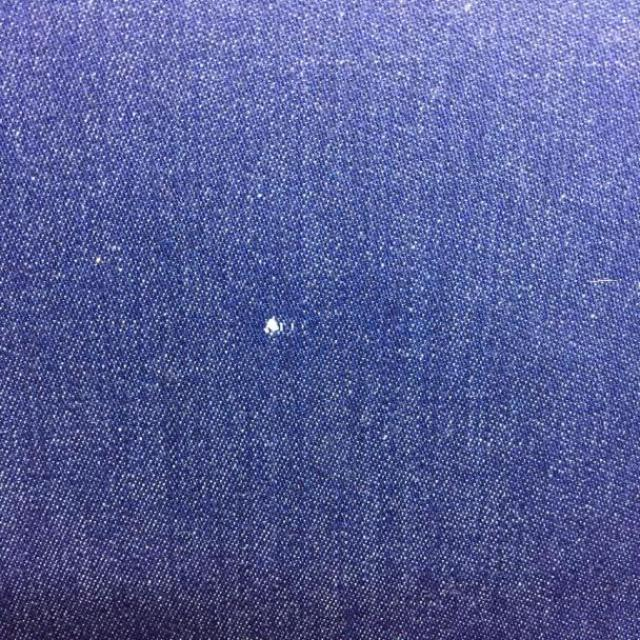Knot: (263, 316, 297, 338)
